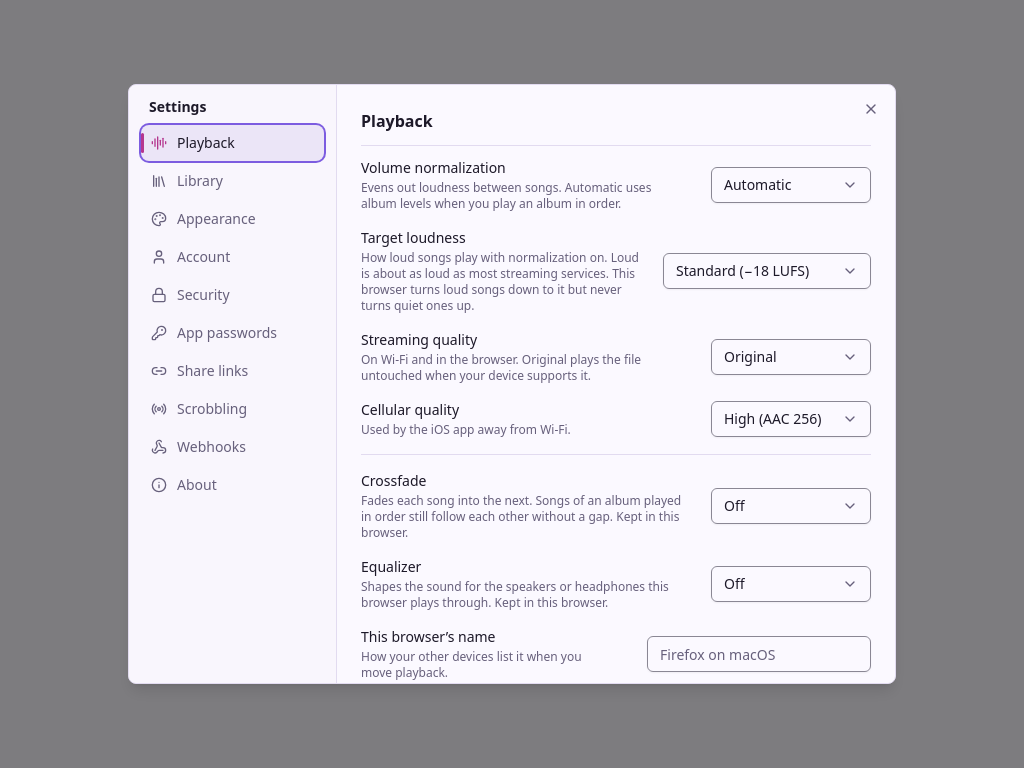
Test: SettingsDialog › switches to Appearance
Click the button "Appearance".
click(232, 219)  # box [141,201,324,237]
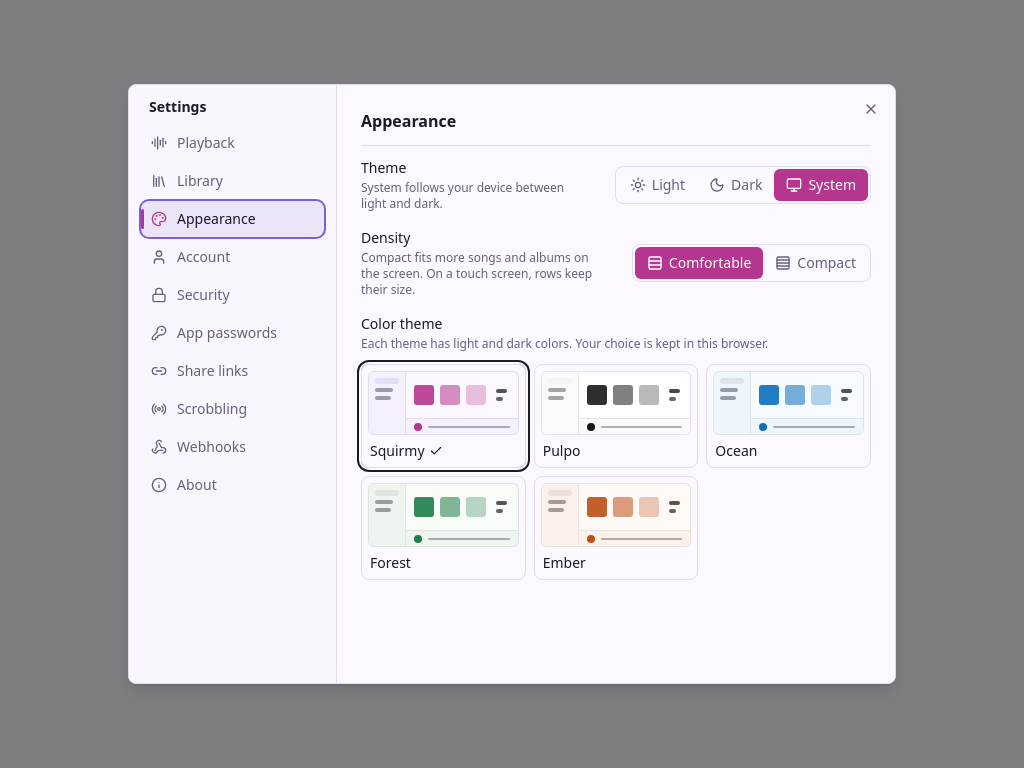
Now the button "Appearance" is marked as current, box [141,201,324,237]
